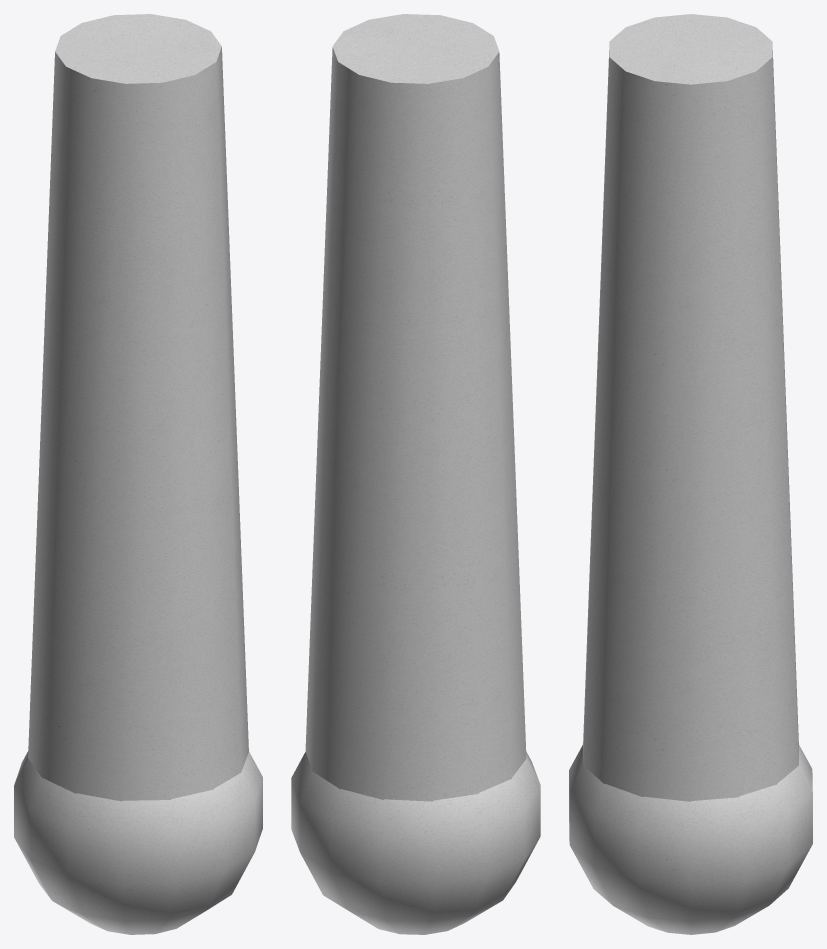
File: SM_研磨棒.fbx
The picture shows the model from 3 angles, left to right: view 1: azimuth 30°, elevation 25°; view 2: azimuth 150°, elevation 25°; view 3: azimuth 270°, elevation 25°; orthographic projection.
Visible parts, largest first — view 1: SM_研磨棒; view 2: SM_研磨棒; view 3: SM_研磨棒.
Boxes of the visible parts, bbox=[...] form: SM_研磨棒: bbox=[14, 14, 262, 934]; SM_研磨棒: bbox=[291, 14, 540, 934]; SM_研磨棒: bbox=[569, 14, 812, 934].
Size of the model in its own units: 5.97 by 23.06 by 5.83.
1 material, 1 textured.
